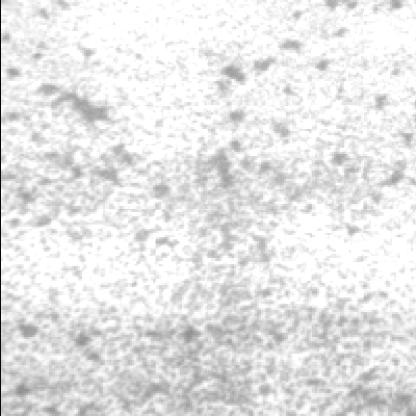pitted_surface: (6, 23, 414, 412)
